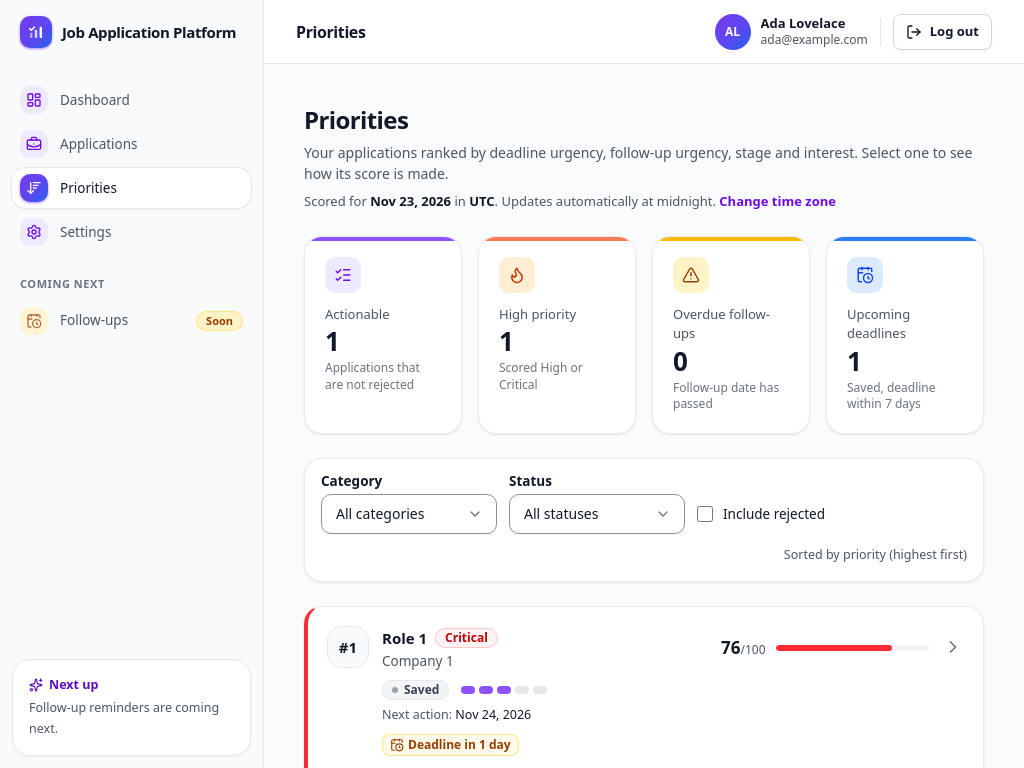
Priorities page: breakdown › the breakdown opens the existing application details sheet
Click the button with aria-label "Role 1 at Company 1: view priority breakdown".
click(405, 638)  # box [382, 627, 427, 649]
(page scrolled)
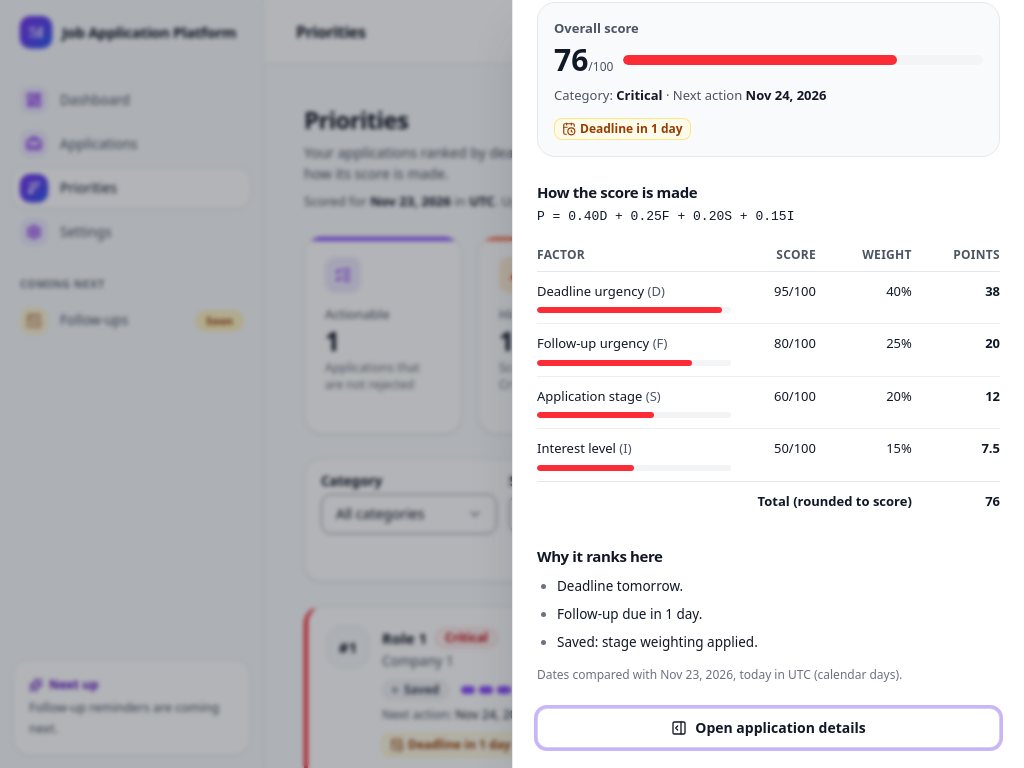
Click the button "Open application details".
click(768, 728)  # box [537, 708, 1000, 748]
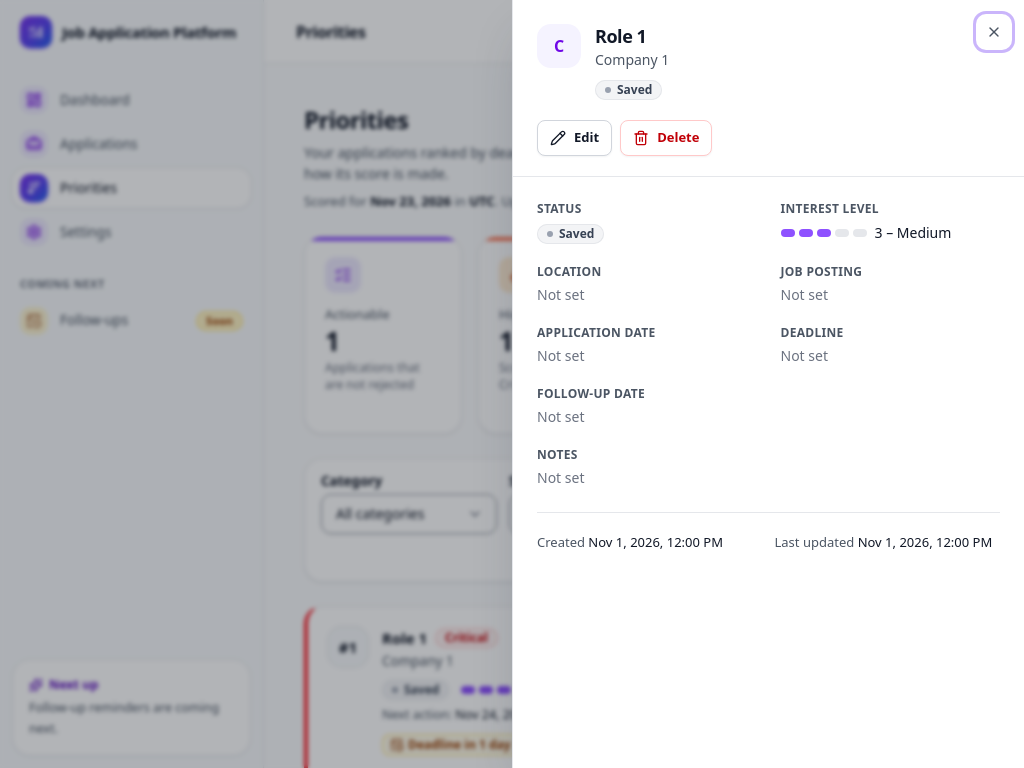
Result: the button "Edit" is shown at [537, 120, 612, 156]
Result: the button "Delete" is shown at [620, 120, 712, 156]
